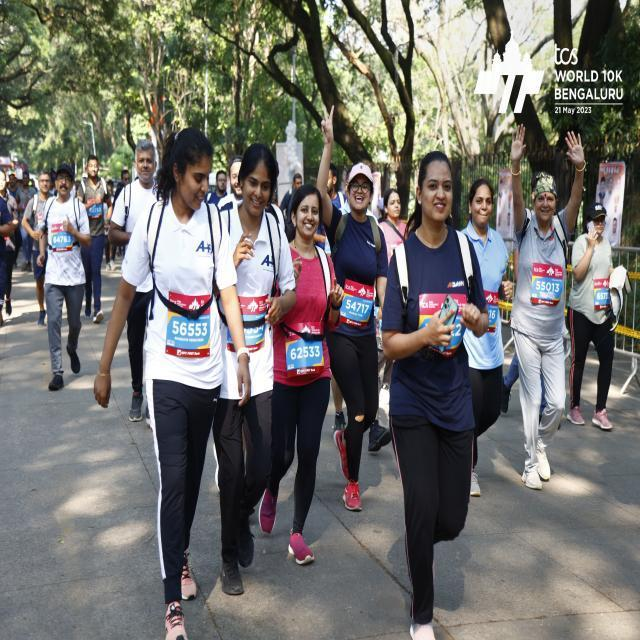dorsal: (168, 293, 210, 360), (284, 323, 324, 380), (337, 278, 374, 333), (532, 259, 564, 308)
